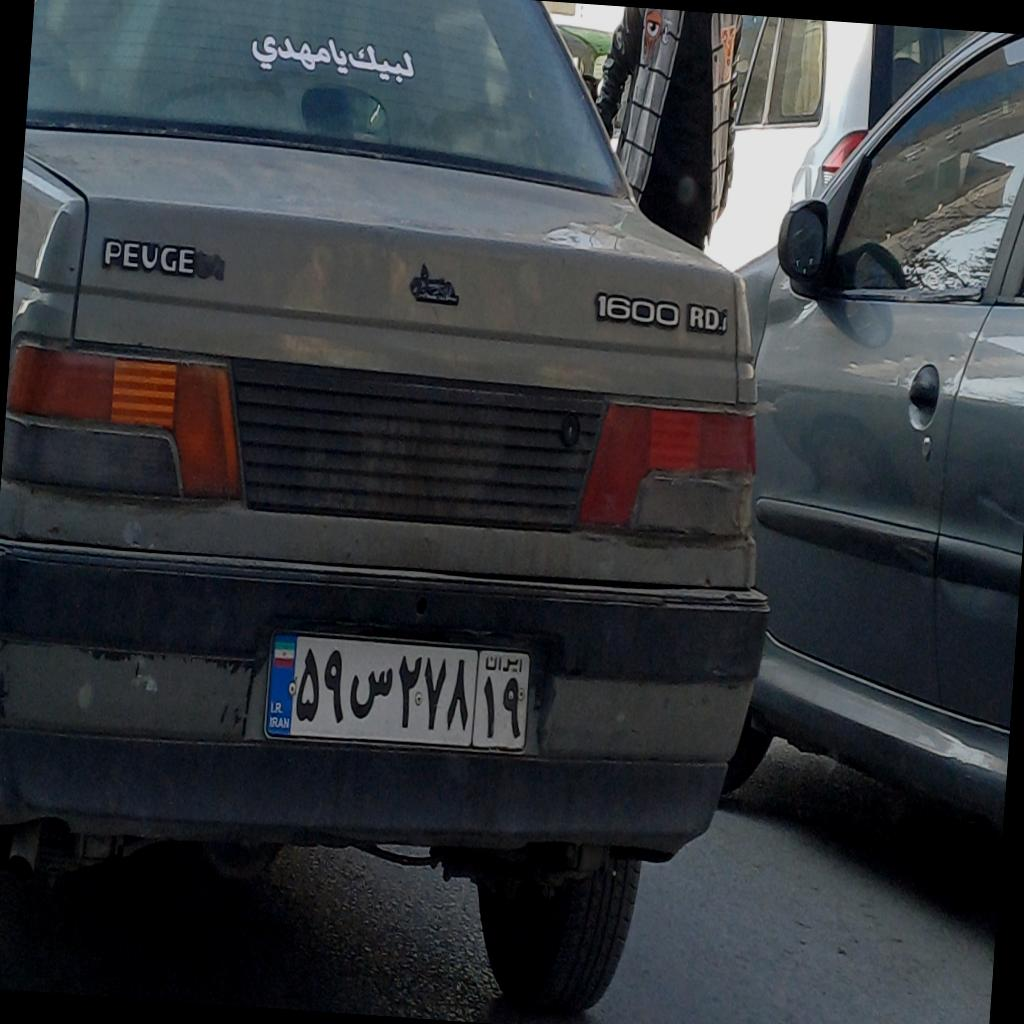Plates: (263, 626, 536, 752)
